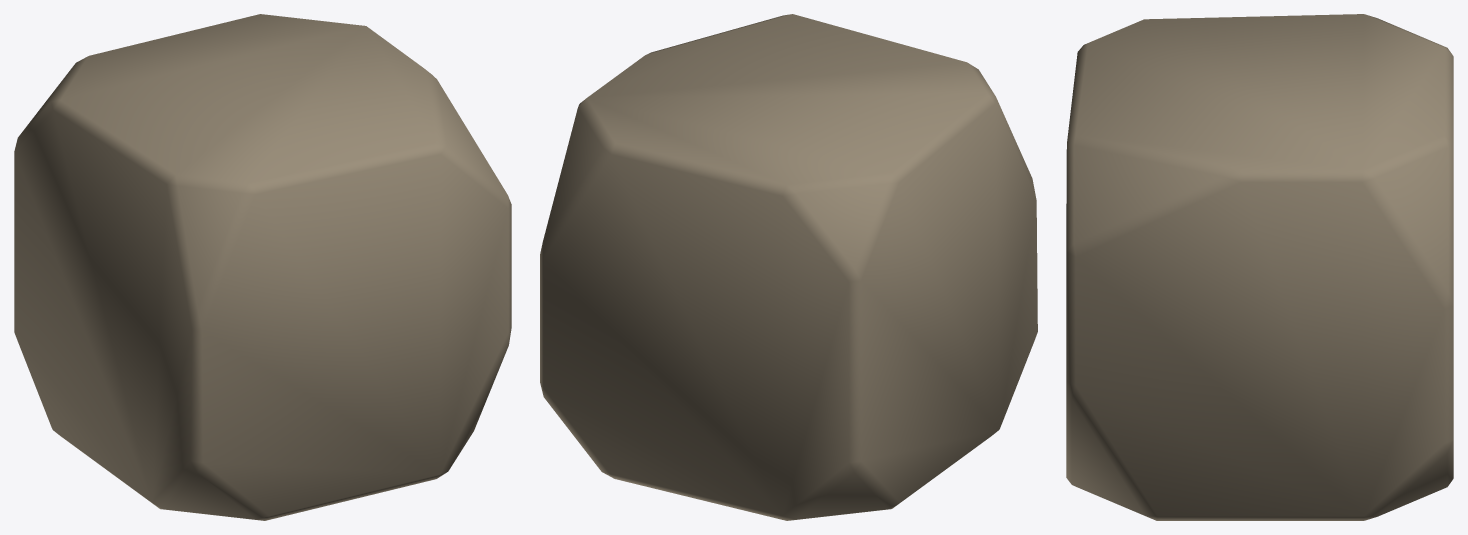
The model's file is Stone.fbx.
The picture shows the model from 3 angles, left to right: view 1: azimuth 30°, elevation 25°; view 2: azimuth 150°, elevation 25°; view 3: azimuth 270°, elevation 25°; orthographic projection. The views are drawn at different scales.
Visible parts, largest first — view 1: Cube.790; view 2: Cube.790; view 3: Cube.790.
Part boxes in pixels (x1,y1,x2,y2): Cube.790: (14,14,511,520); Cube.790: (540,14,1037,520); Cube.790: (1066,14,1453,520).
Bounding box in the file's own units: 28.12 × 28.12 × 28.12.
